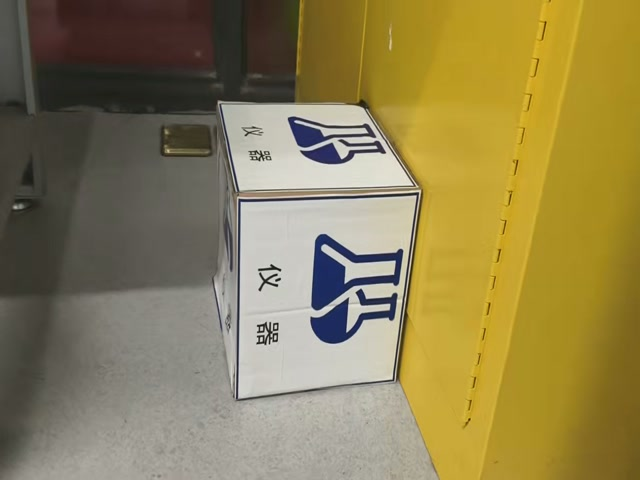Cube_ins: (214, 101, 417, 195)
